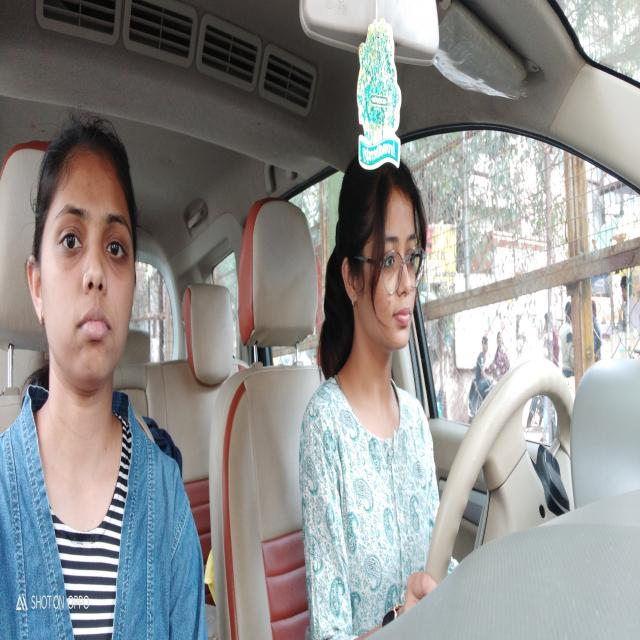person: (24, 107, 143, 420), (338, 140, 431, 390)
